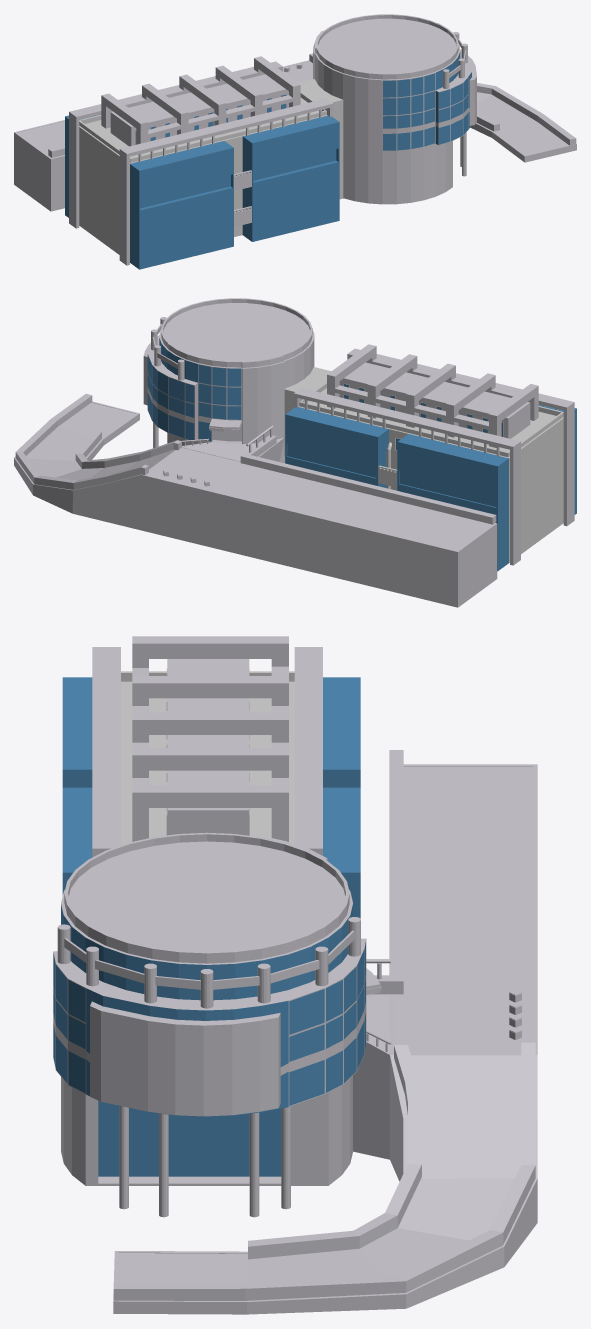
3 renders of one model, top to bottom at view 1: azimuth 30°, elevation 25°; view 2: azimuth 150°, elevation 25°; view 3: azimuth 270°, elevation 25°, orthographic. The views are drawn at different scales.
Parts seen in each view (by area): view 1: Cube.013; view 2: Cube.013; view 3: Cube.013.
Part boxes in pixels (x1,y1,x2,y2): Cube.013: [14, 14, 576, 269]; Cube.013: [14, 298, 576, 607]; Cube.013: [53, 636, 537, 1314].
Size of the model in its own units: 1572 by 427 by 720.
